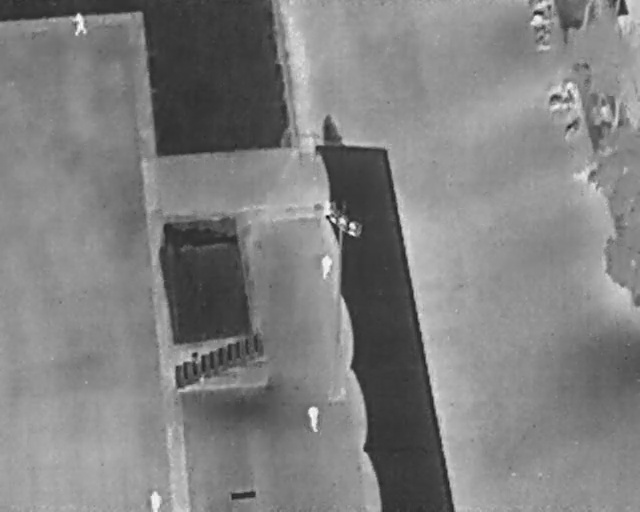Bicycle: (558, 113, 586, 142), (548, 91, 576, 110), (532, 23, 555, 38), (532, 10, 550, 23), (538, 35, 553, 50)
Person: (306, 404, 321, 433), (72, 12, 87, 36), (320, 252, 332, 281), (149, 489, 162, 511)
